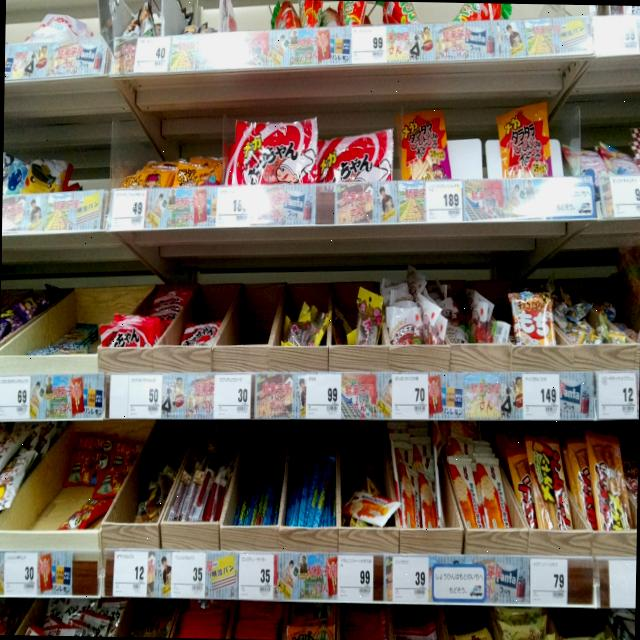objects: (595, 369, 637, 422), (390, 552, 430, 604), (591, 13, 640, 55), (520, 370, 560, 420), (528, 558, 568, 608), (335, 552, 374, 602), (210, 372, 252, 418), (170, 548, 207, 600), (237, 550, 274, 601), (391, 372, 428, 422), (123, 374, 163, 420), (423, 180, 464, 223), (304, 372, 342, 418), (1, 550, 38, 597), (114, 548, 148, 598), (349, 23, 388, 65), (110, 187, 146, 231), (216, 184, 252, 228), (0, 374, 31, 421), (135, 36, 171, 74), (610, 174, 640, 216)
